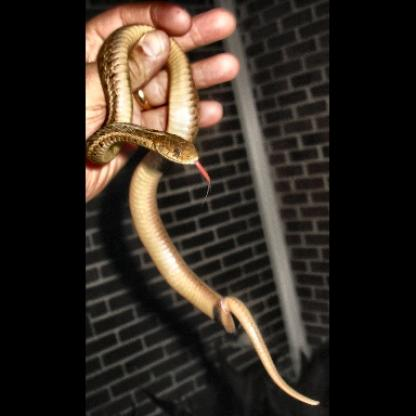Snake: (88, 22, 236, 329)
